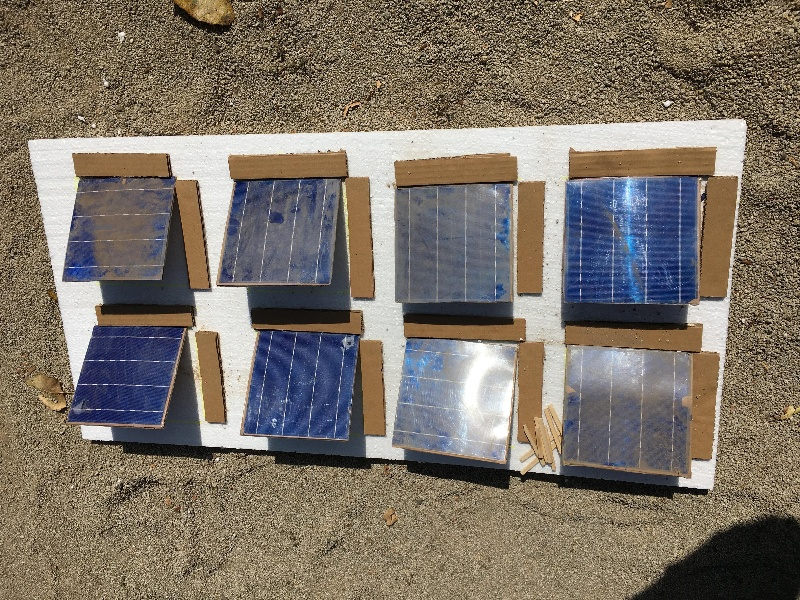clean: (559, 179, 698, 305), (68, 325, 188, 432), (239, 331, 349, 442)
dirty: (565, 344, 691, 478), (393, 340, 516, 463), (390, 182, 514, 301), (218, 179, 339, 288), (62, 177, 172, 281)
